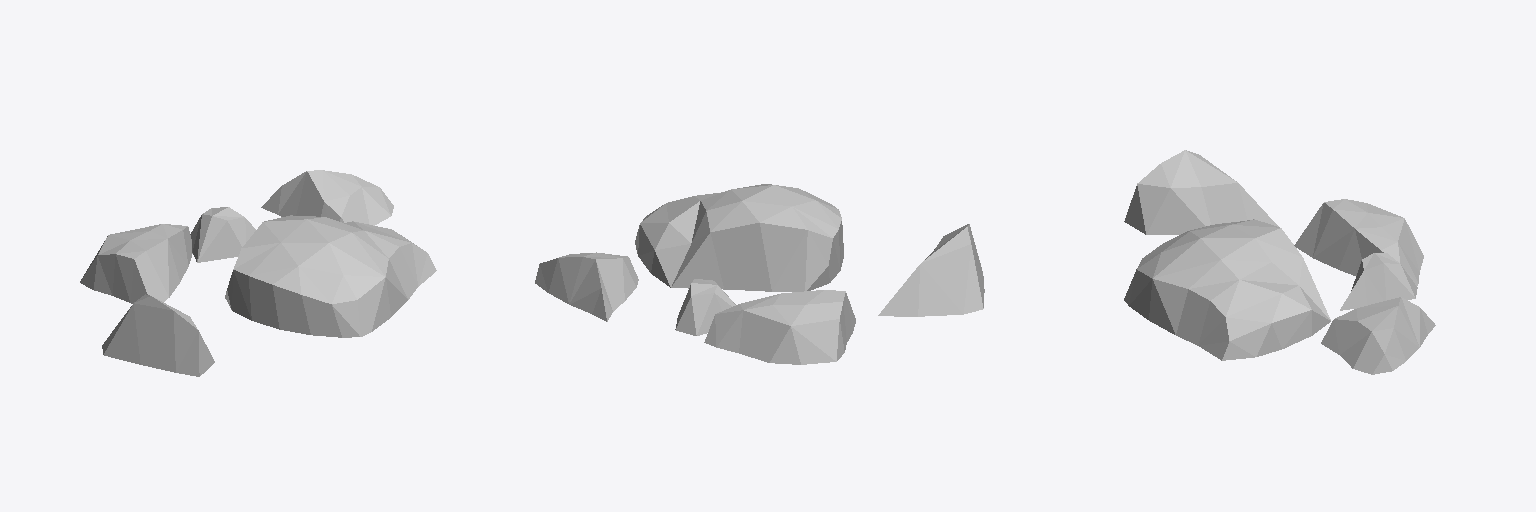
Rendered from rock_13_001.obj.
3 renders of one model, left to right at view 1: azimuth 30°, elevation 25°; view 2: azimuth 150°, elevation 25°; view 3: azimuth 270°, elevation 25°, orthographic.
Visible parts, largest first — view 1: rocks_small_08_rocks_small_test.048; view 2: rocks_small_08_rocks_small_test.048; view 3: rocks_small_08_rocks_small_test.048.
Part boxes in pixels (left/top/right/bottom): rocks_small_08_rocks_small_test.048: left=80, top=170, right=436, bottom=376; rocks_small_08_rocks_small_test.048: left=535, top=184, right=984, bottom=364; rocks_small_08_rocks_small_test.048: left=1124, top=150, right=1435, bottom=374.
Bounding box in the file's own units: 1.11 × 0.2098 × 0.8146.